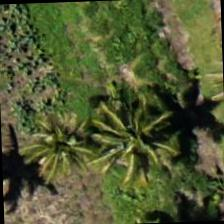Kelapa_Sawit: (11, 102, 104, 196), (88, 93, 180, 186)
